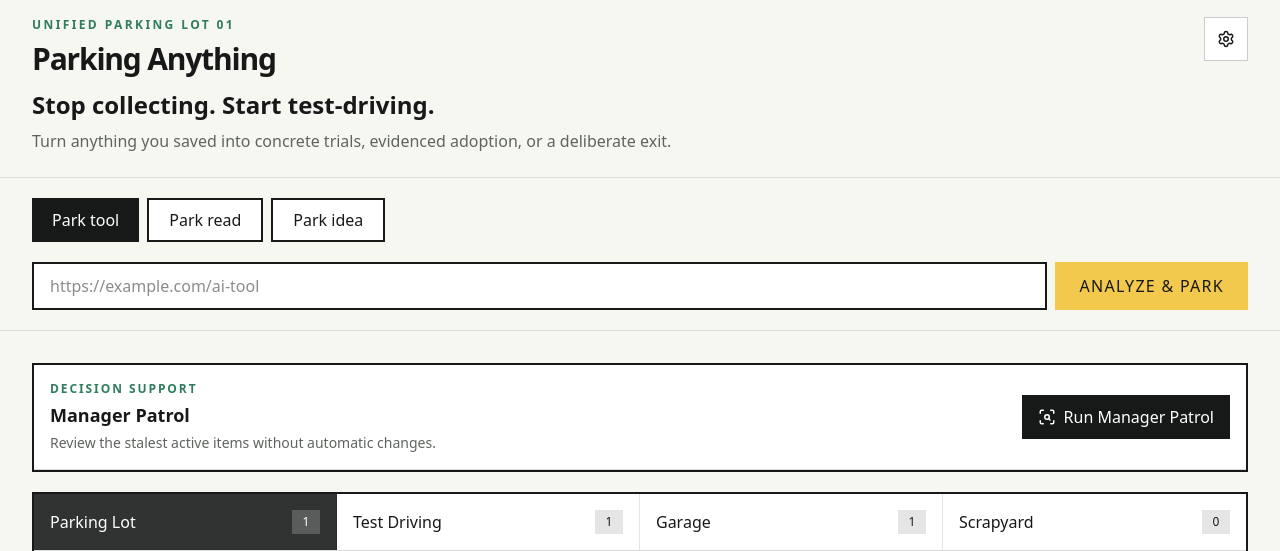
Scenario: ParkingApp live analysis › preserves the URL after an API error and allows a retry
Step 1. Type "https://example.com/tool" into the field named "AI tool URL" → (540, 286), box 32,262 -> 1048,310
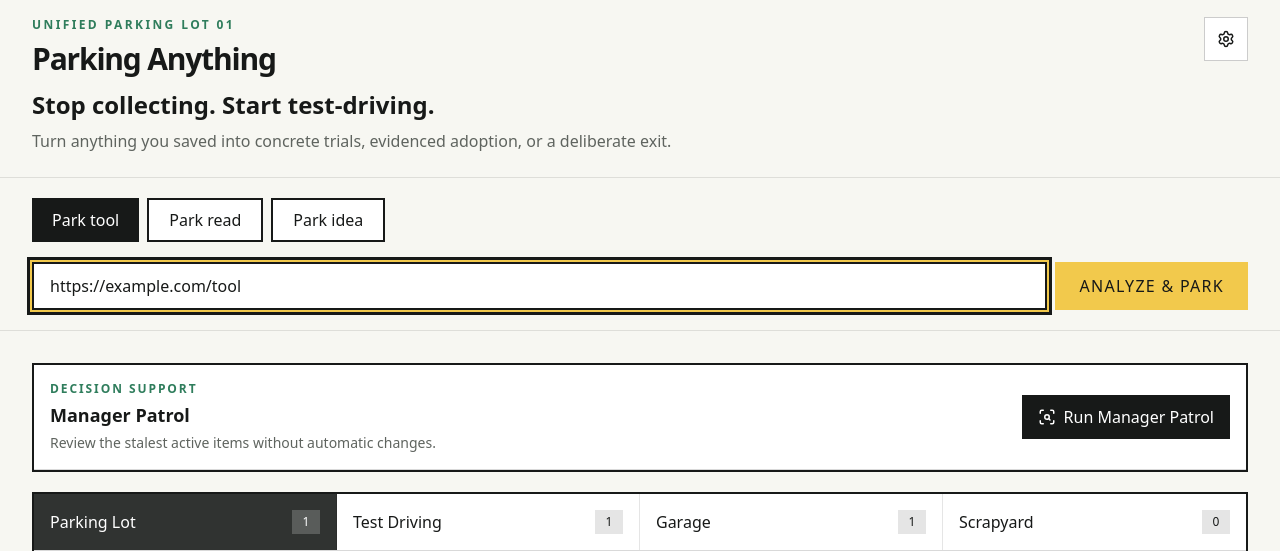
Step 2. Click the button "Analyze & Park" → click(1152, 286), box 1056,262 -> 1248,310
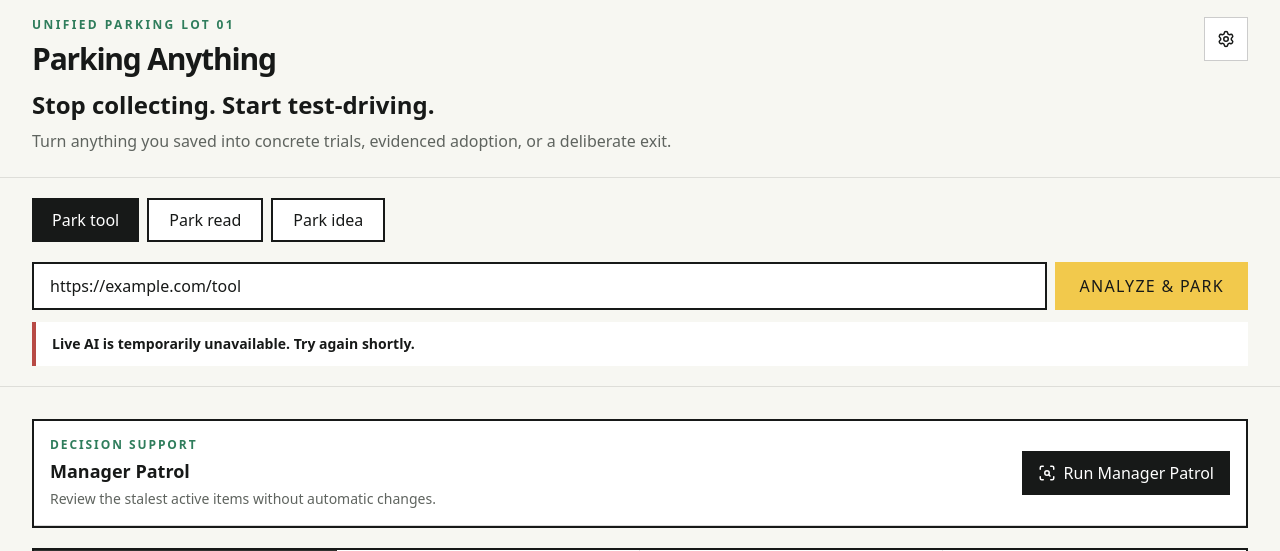
Expected: the text "Live AI is temporarily unavailable. Try again shortly." is shown, 32,322 -> 1248,366
Step 3. Click the button "Analyze & Park" → click(1152, 286), box 1056,262 -> 1248,310
(page scrolled)
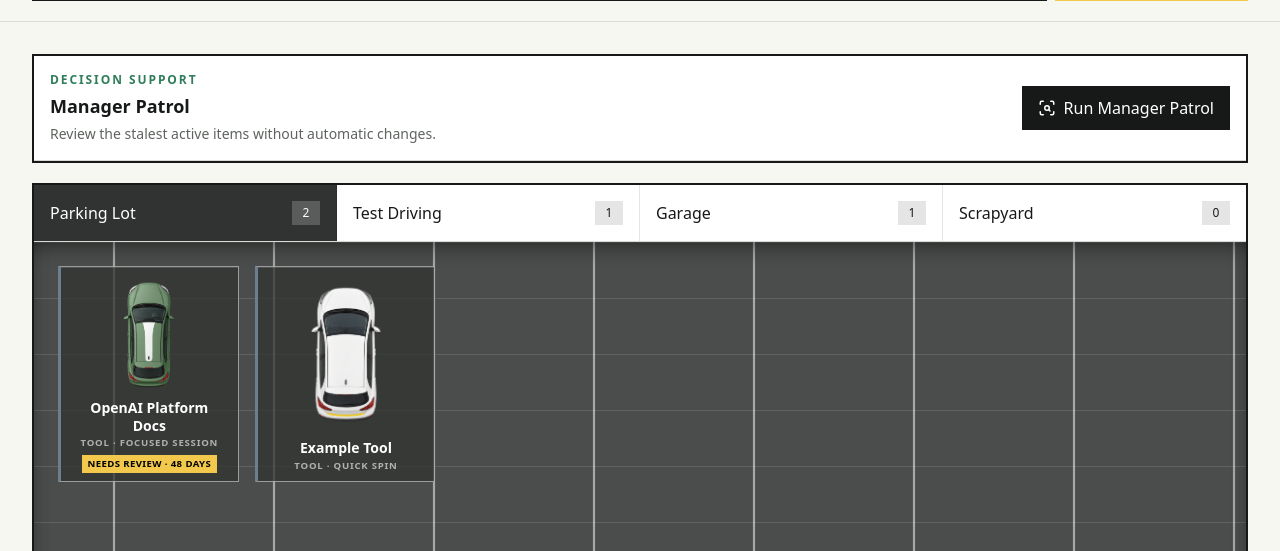
Expected: the button with aria-label "Example Tool, Parked" is shown, 255,266 -> 435,482
